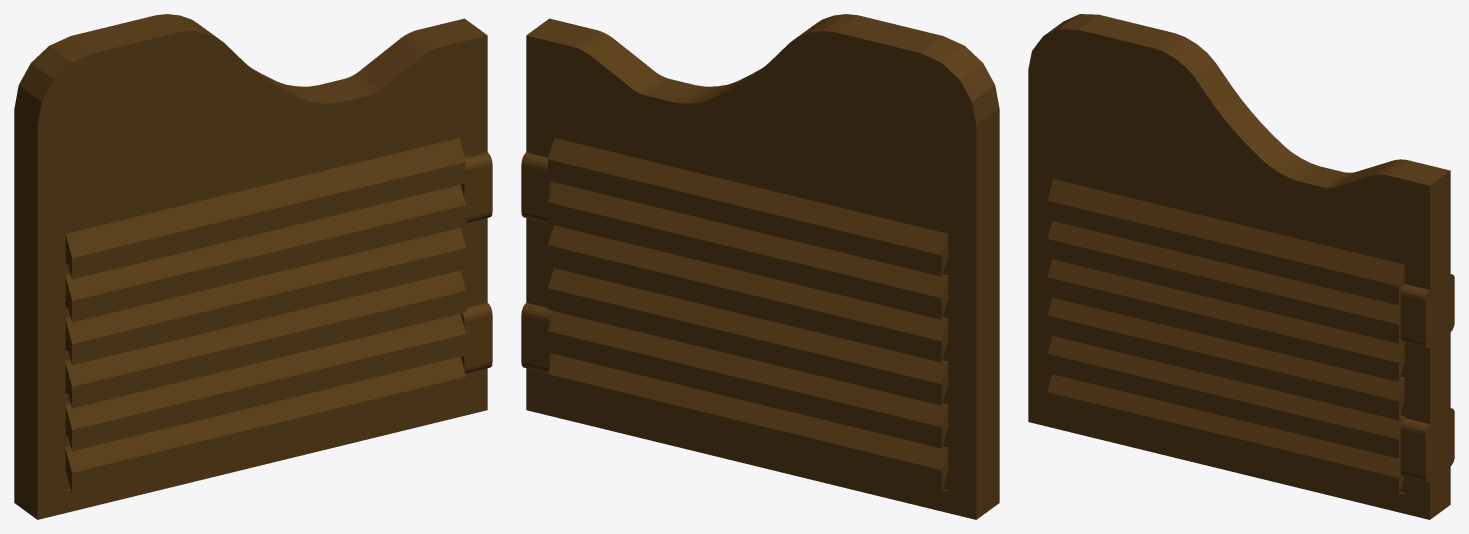
File: SaloonDoor2.fbx
The picture shows the model from 3 angles, left to right: view 1: azimuth 30°, elevation 25°; view 2: azimuth 150°, elevation 25°; view 3: azimuth 330°, elevation 25°; orthographic projection. The views are drawn at different scales.
Visible parts, largest first — view 1: SalooDoor2; view 2: SalooDoor2; view 3: SalooDoor2.
Boxes of the visible parts, left/top/right/bottom form: SalooDoor2: left=14, top=14, right=492, bottom=519; SalooDoor2: left=521, top=14, right=999, bottom=519; SalooDoor2: left=1028, top=14, right=1454, bottom=519.
Bounding box in the file's own units: 244 × 234 × 33.74.
